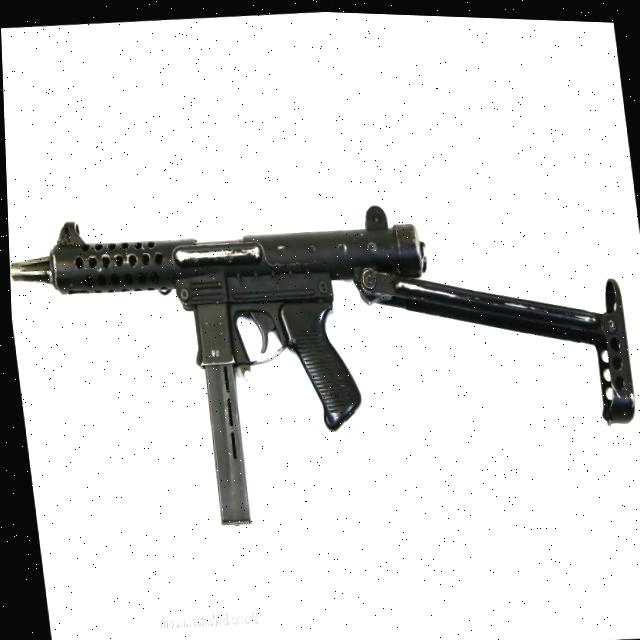firearm: (5, 167, 640, 553)
